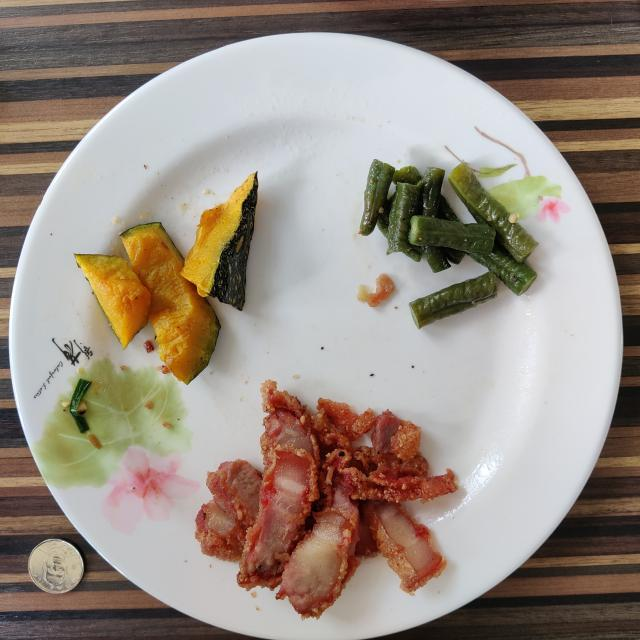coin: (29, 539, 84, 594)
pumpkin: (75, 172, 258, 384)
red grilled pork: (195, 380, 458, 619)
